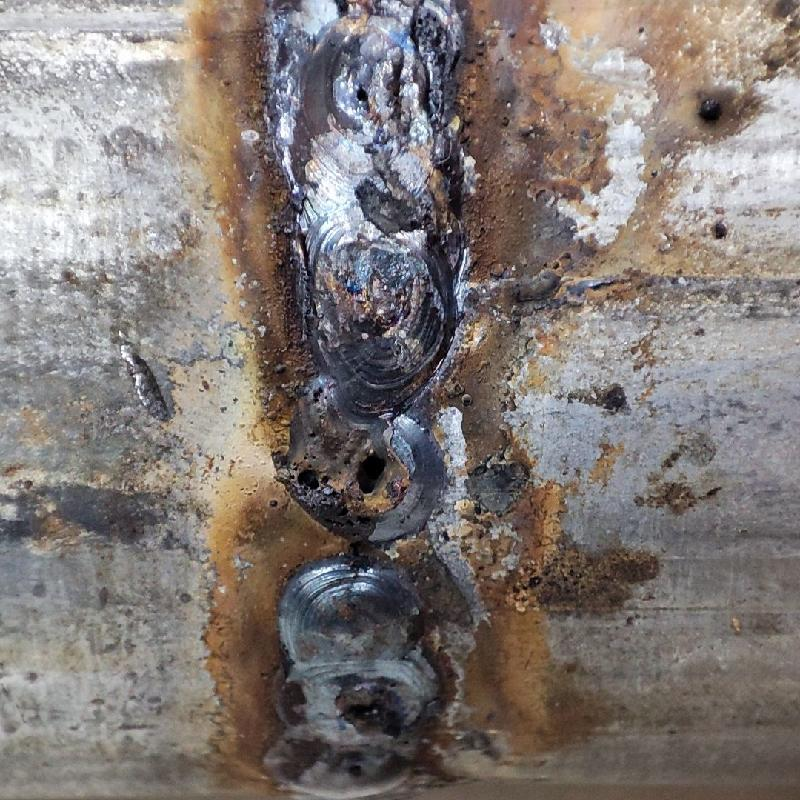Surface_pores: (258, 400, 438, 526), (346, 77, 380, 115), (335, 756, 380, 779)
crater: (251, 5, 458, 386)
wrong_size: (283, 555, 449, 794)
